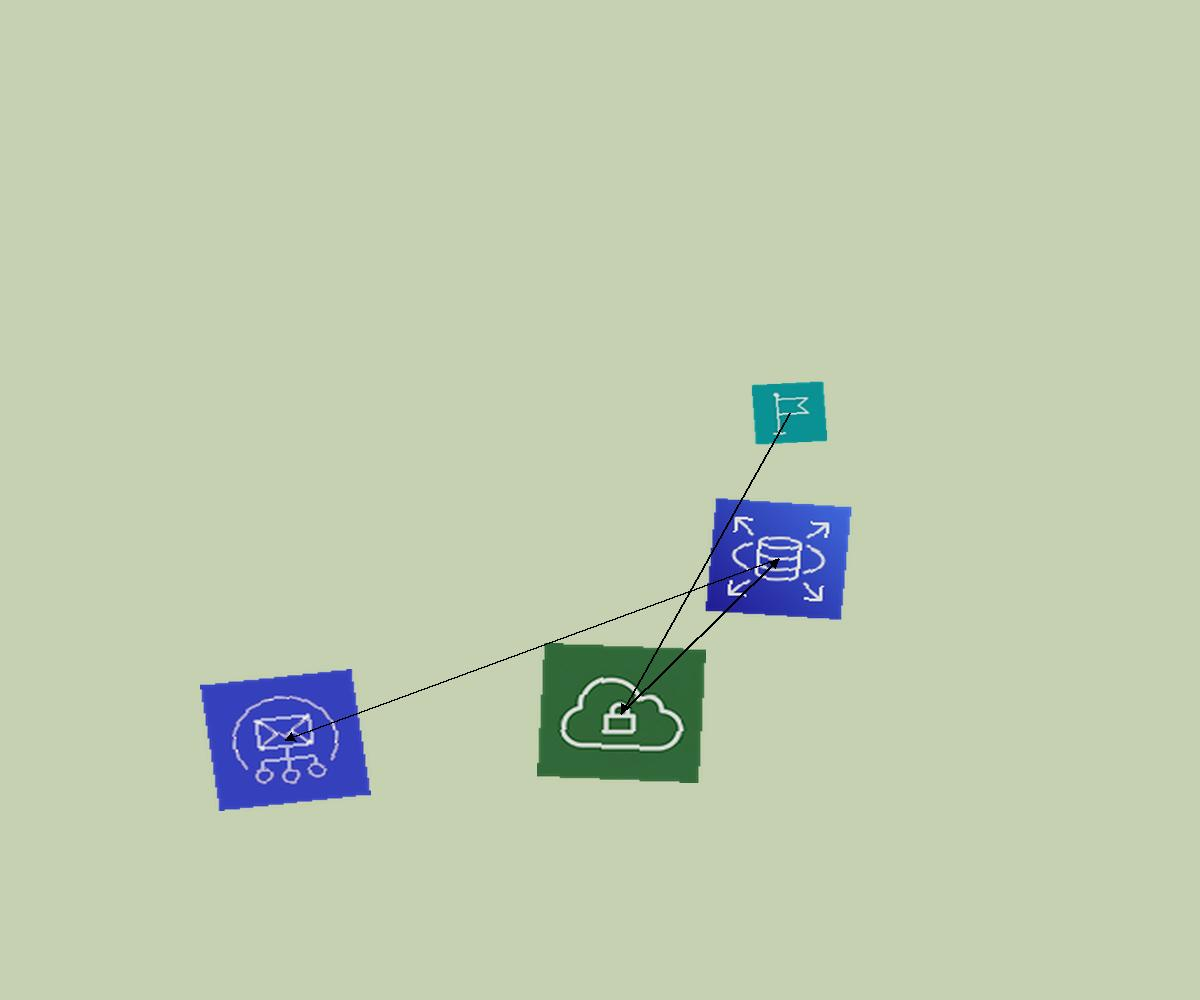AWS-Private_vpc: (537, 643, 706, 783)
AWS-RDS: (704, 497, 853, 621)
AWS-Region: (751, 381, 828, 445)
AWS-Simple-Email-Service: (200, 669, 371, 811)
